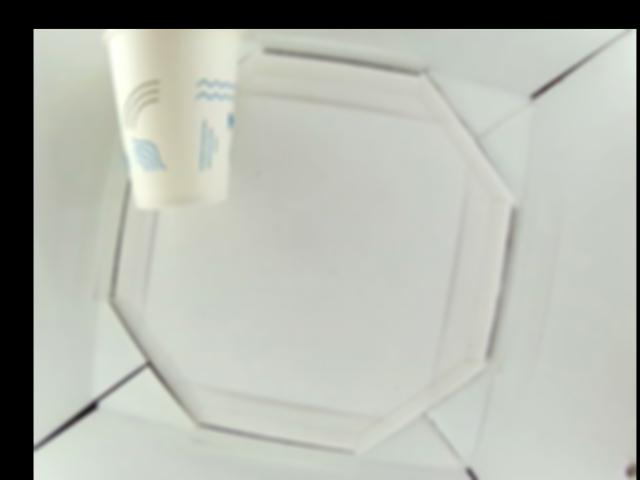Cup: (101, 29, 243, 211)
